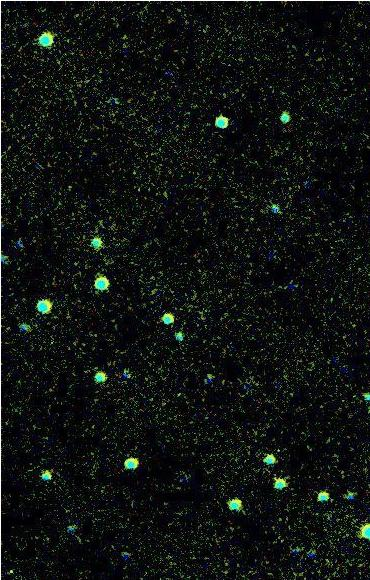star: (0, 555, 25, 580)
